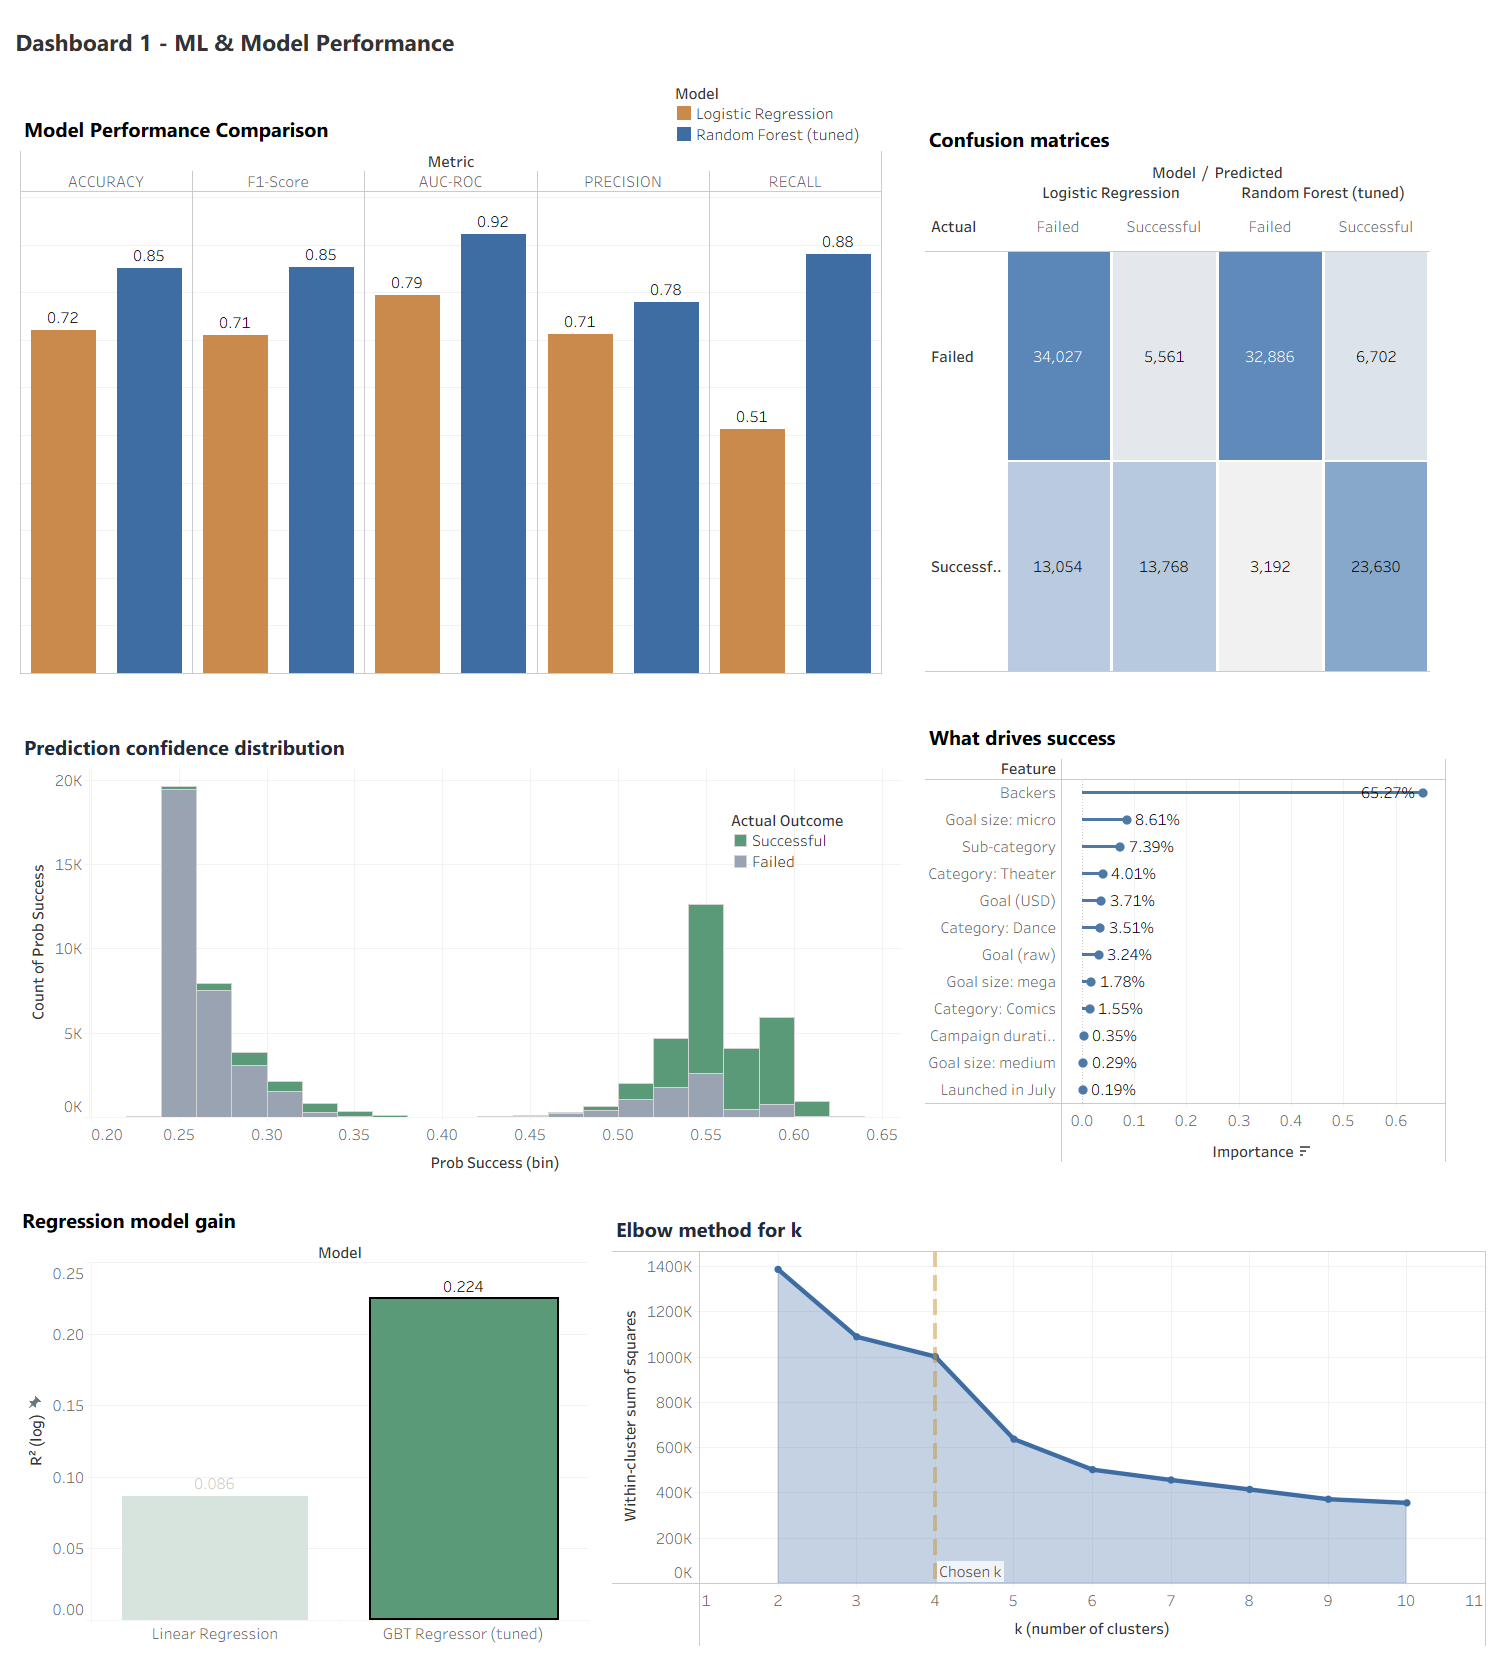

The dashboard page shown, as its layout file describes it:
{"tool":"tableau","page":{"name":"D1 · ML & Model Performance","canvas":[1500,1668],"ordinal":0},"visuals":[{"type":"text","box":[12,21.1,460,40.8]},{"type":"legend","title":"Model performance comparison (grouped bar)","param":"[federated.0vh6nvj12374fq1c7ll6f14qld2z].[none:model:nk]","box":[674,81,204,104]},{"type":"worksheet","title":"Model performance comparison (grouped bar)","mark":"Automatic","rows":["value"],"cols":["metric","model"],"box":[20,109,862,565]},{"type":"worksheet","title":"Confusion matrices (heatmap)","mark":"Square","rows":["actual"],"cols":["model","predicted"],"box":[924,119,511,575]},{"type":"worksheet","title":"What drives success (lollipop)","mark":"Bar","rows":["feature"],"cols":["importance","importance"],"box":[925,716.9,542,473.6]},{"type":"worksheet","title":"Prediction confidence (histogram)","mark":"Bar","rows":["prob_success"],"cols":["Prob Success (bin)"],"box":[20,727,881,453]},{"type":"legend","title":"Prediction confidence (histogram)","param":"[federated.1cm2ipx10rtuwc11o4qtp1yyzasl].[none:Calculation_1318602967896075:nk]","box":[730,807.7,140,84.2]},{"type":"worksheet","title":"Regression model gain (bar)","mark":"Bar","rows":["r2_log"],"cols":["model"],"box":[18,1199.7,570,444.6]},{"type":"worksheet","title":"Elbow method (line)","mark":"Line","rows":["wcss","wcss"],"cols":["k"],"box":[612,1209,874,438]}]}

Visuals, with their boxes in screenshot pixels (x1, y1, x2, y2), scaled from the page's 1500x1668 canvas onto the 1500x1668 screenshot:
text: x1=12, y1=21, x2=472, y2=62
"Model performance comparison (grouped bar)" legend: x1=674, y1=81, x2=878, y2=185
"Model performance comparison (grouped bar)" worksheet: x1=20, y1=109, x2=882, y2=674
"Confusion matrices (heatmap)" worksheet (Square marks): x1=924, y1=119, x2=1435, y2=694
"What drives success (lollipop)" worksheet (Bar marks): x1=925, y1=717, x2=1467, y2=1190
"Prediction confidence (histogram)" worksheet (Bar marks): x1=20, y1=727, x2=901, y2=1180
"Prediction confidence (histogram)" legend: x1=730, y1=808, x2=870, y2=892
"Regression model gain (bar)" worksheet (Bar marks): x1=18, y1=1200, x2=588, y2=1644
"Elbow method (line)" worksheet (Line marks): x1=612, y1=1209, x2=1486, y2=1647
